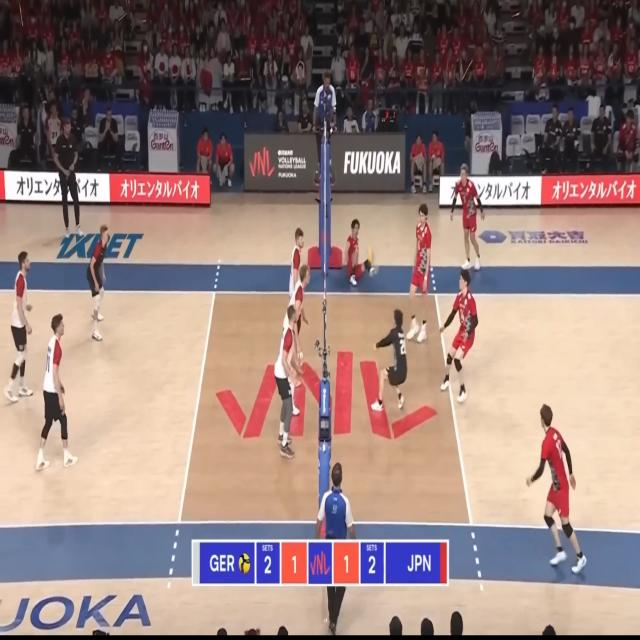ball: (367, 246, 374, 262)
